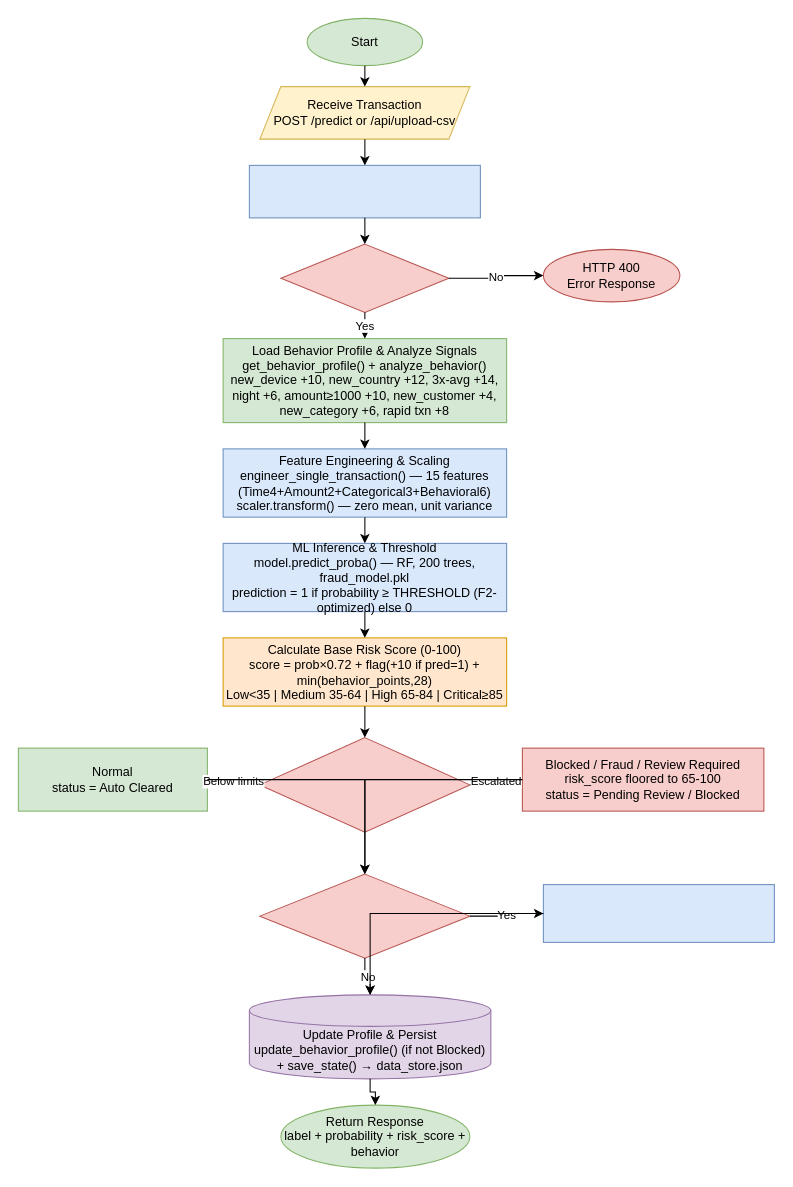
Image size: 793x1187. Some labels were removed from this diagram. The shapes that lost their labels are listed below. From the top down, each one's centre as x and y in pixels, then its label:
At pixel 364 191: "Parse & Sanitize parse_transaction() — required fields, amount, date/time".
At pixel 364 277: "Valid?".
At pixel 364 784: "Apply Business Rules (amount≥300k? amount≥100k? pred=1? behavior_points≥20?)".
At pixel 364 915: "Alert needed? (pred=1 OR risk_score≥65)".
At pixel 658 913: "Create Alert alert_service — severity, message, risk_score".
